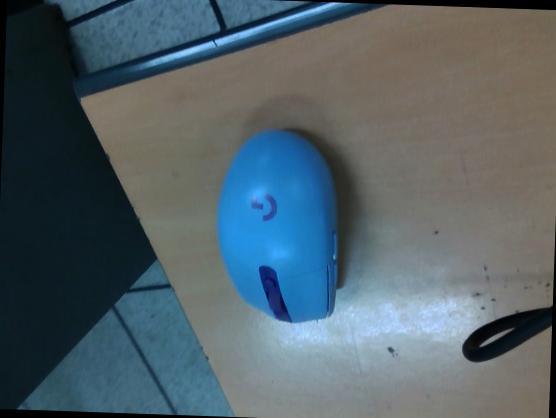mouse: (215, 126, 341, 322)
